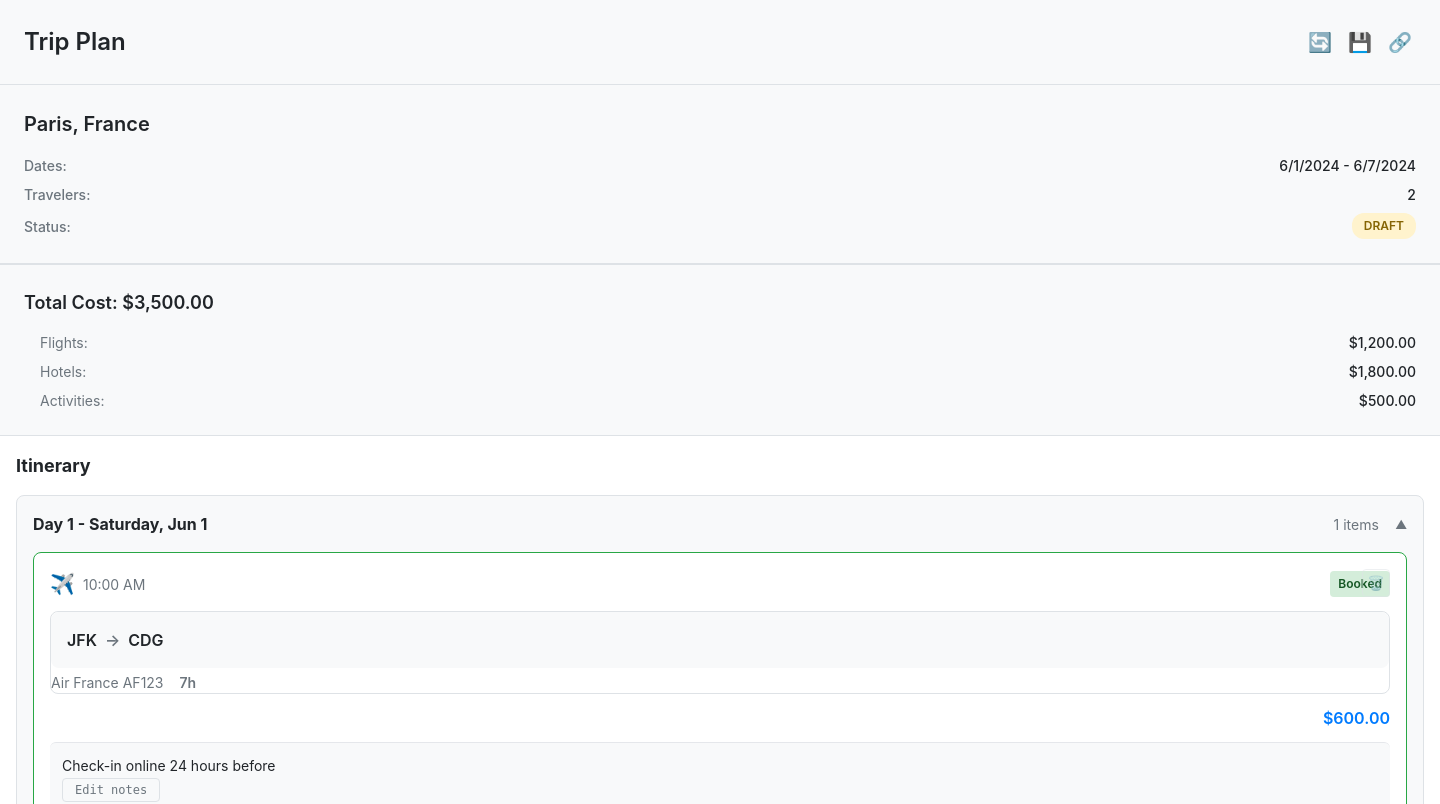
TripPlanPanel › handles share functionality with success message
Click the button titled "Share": (1400, 42) [1384,26,1416,58]
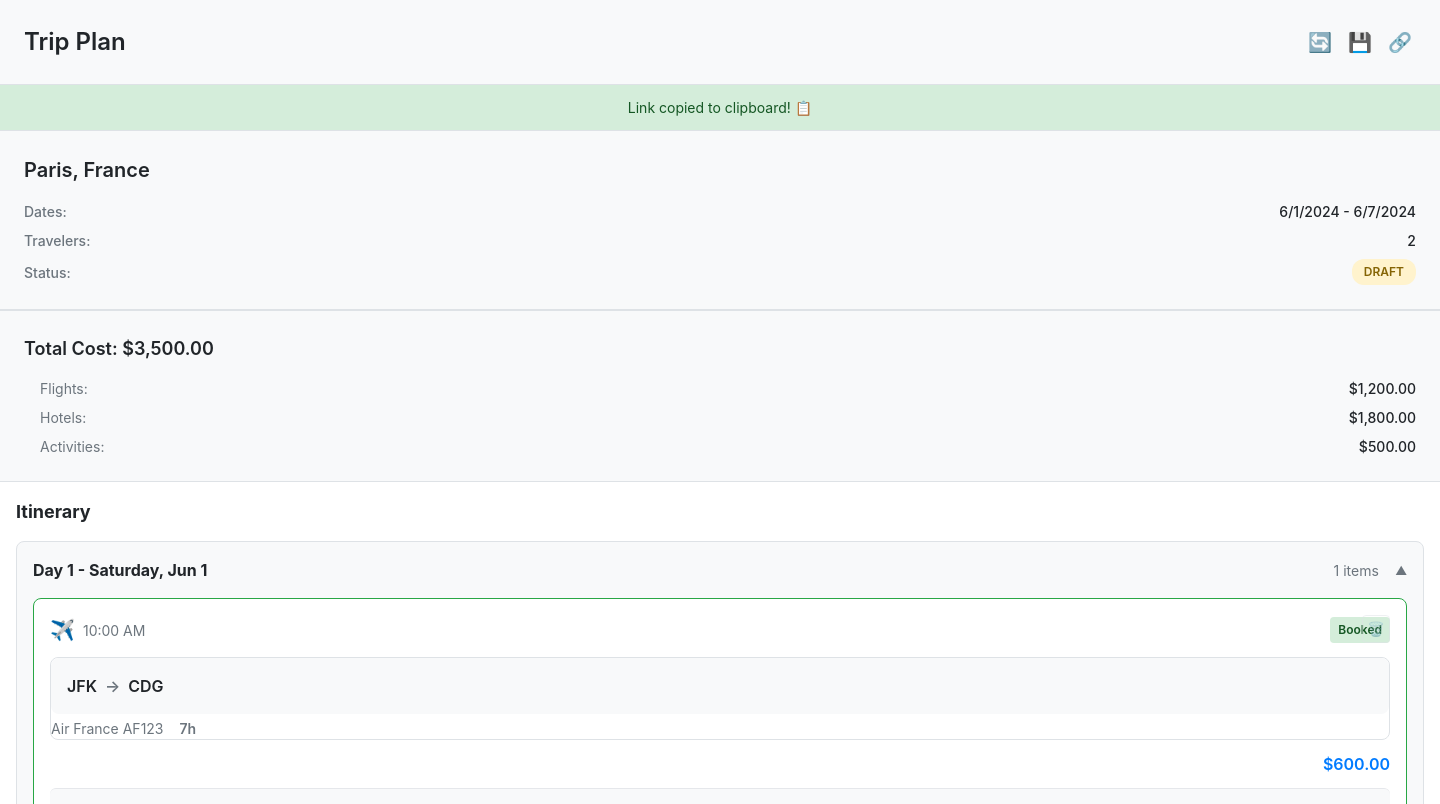
Check: the text "Link copied to clipboard! 📋" is shown, box [0,85,1439,131]
